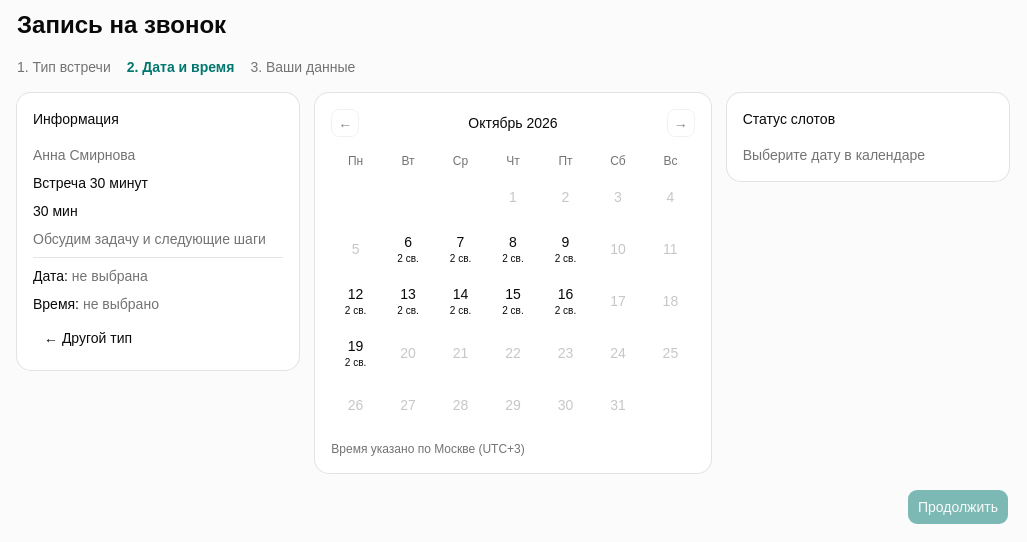
Scenario: колонка «Статус слотов» › занятый слот не нажимается, выбранный свободный подсвечен и показан в «Информации»
expect the element "Информация" shows "Дата: не выбрана": met, box [17,93,299,370]
expect the element "Информация" shows "Время: не выбрано": met, box [17,93,299,370]
What coordinates should you click on to do the following:
click the button "7 2 св."
I would click on:
 (461, 249)
Its box is [436,225,485,273].
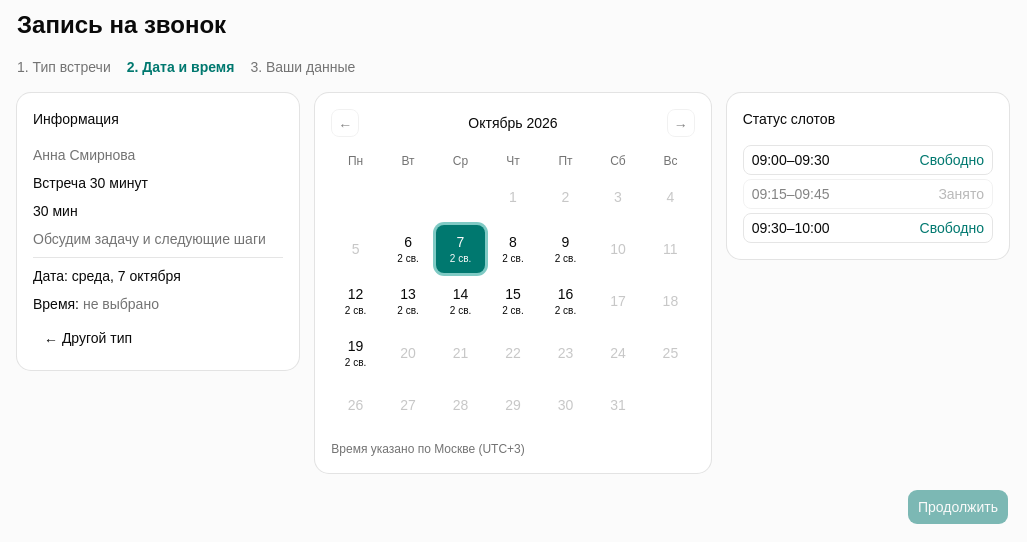
expect the button "Продолжить" is disabled: met, box [907,489,1009,525]
expect the element "Информация" shows "Дата: среда, 7 октября": met, box [17,93,299,370]
What coordinates should you click on to do the following:
click the button "09:30–10:00 Свободно"
I would click on:
 (868, 228)
Its box is [743,213,993,243].
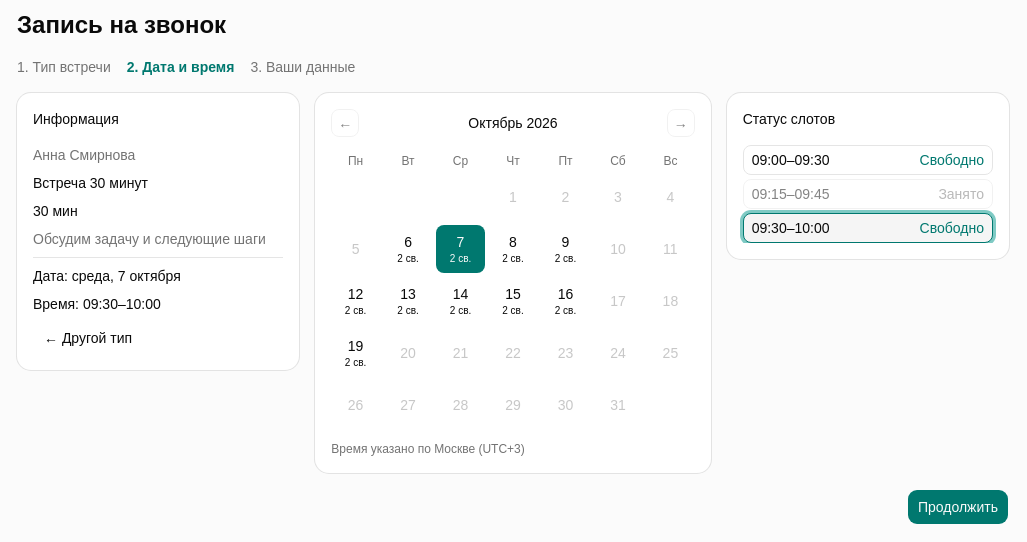
expect the element "Информация" shows "Время: 09:30–10:00": met, box [17,93,299,370]
expect the button "Продолжить" is enabled: met, box [907,489,1009,525]
